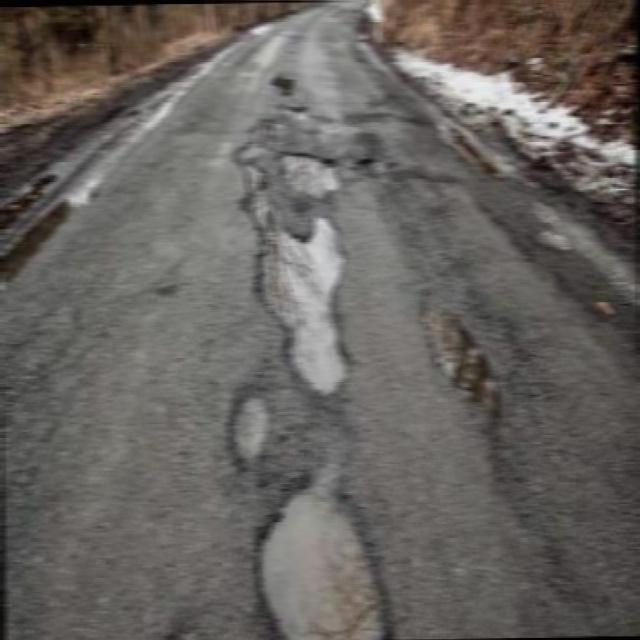Pothole: (237, 202, 369, 417), (249, 473, 392, 640), (405, 274, 514, 434), (223, 380, 280, 484), (273, 144, 345, 202), (225, 132, 272, 203), (356, 154, 396, 182), (272, 103, 314, 123)
